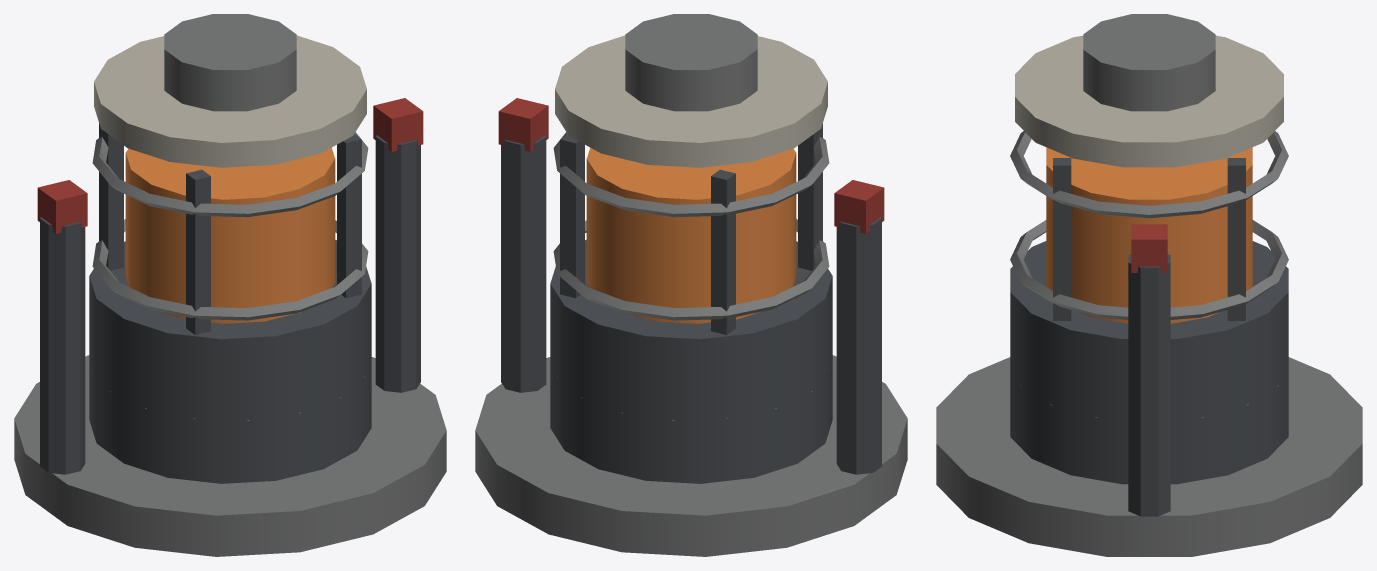
File: rebel_reactor.glb
The picture shows the model from 3 angles, left to right: view 1: azimuth 30°, elevation 25°; view 2: azimuth 150°, elevation 25°; view 3: azimuth 270°, elevation 25°; orthographic projection.
Visible parts, largest first — view 1: rebel_reactor; view 2: rebel_reactor; view 3: rebel_reactor.
Part boxes in pixels (x1,y1,x2,y2): rebel_reactor: [14, 14, 446, 556]; rebel_reactor: [475, 14, 907, 556]; rebel_reactor: [936, 14, 1362, 556].
Bounding box in the file's own units: 1.88 × 2.05 × 1.86.
